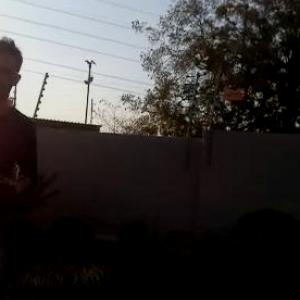follow: (0, 41, 60, 299)
